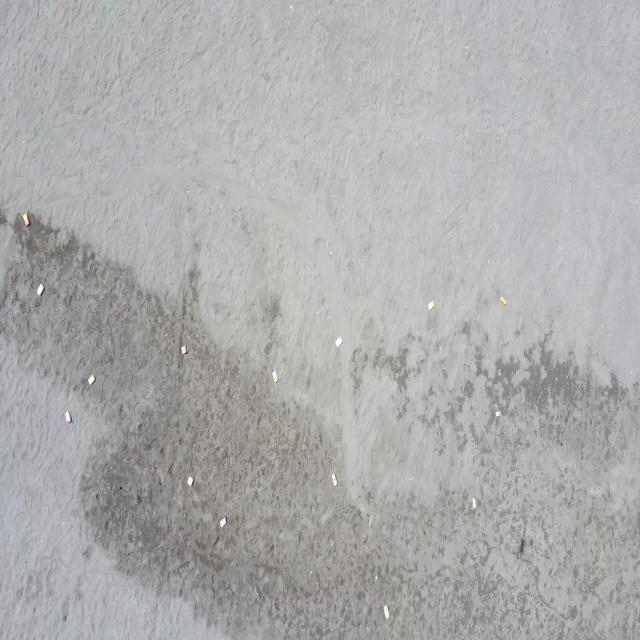retort-pouch: (35, 280, 46, 298), (23, 211, 32, 229), (64, 409, 72, 426), (87, 372, 96, 387), (499, 293, 508, 308), (383, 604, 390, 621), (219, 516, 228, 529), (427, 299, 436, 312), (334, 336, 342, 350), (331, 472, 338, 487), (186, 475, 194, 488), (181, 344, 188, 358), (494, 408, 502, 419), (272, 370, 278, 384), (472, 498, 477, 510)
